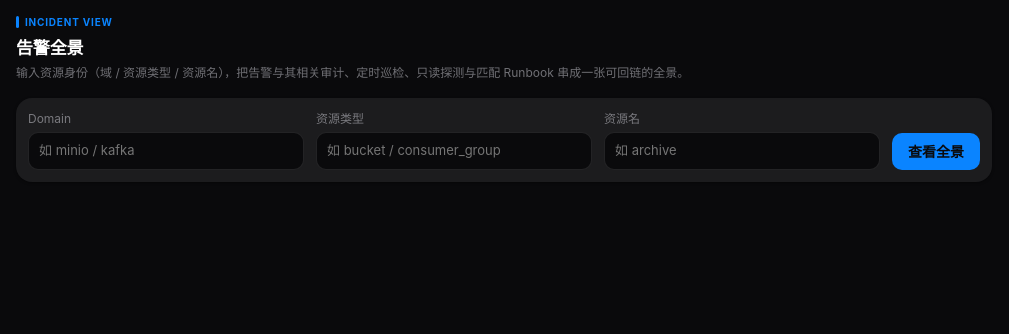
Test case: IncidentView › 无证据资源显示空态
Type "kafka" into the field with test id "incident-domain" at (166, 151), box x1=28 y1=132 x2=304 y2=170
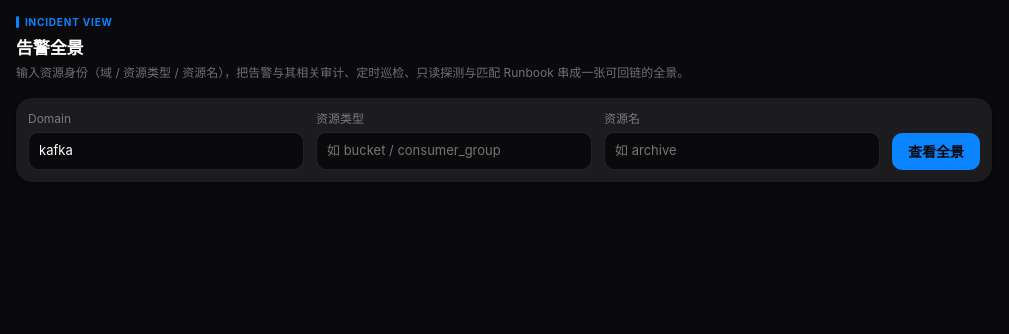
Type "consumer_group" into the field with test id "incident-resource-type" at (454, 151), box x1=316 y1=132 x2=592 y2=170
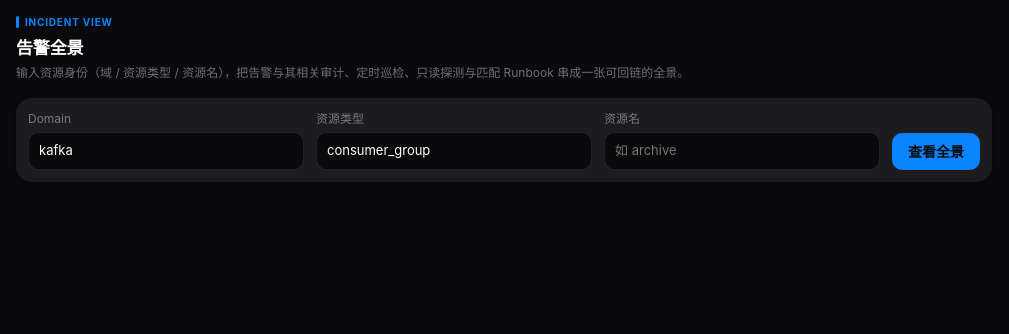
Type "nope" into the field with test id "incident-resource-name" at (742, 151), box x1=604 y1=132 x2=880 y2=170
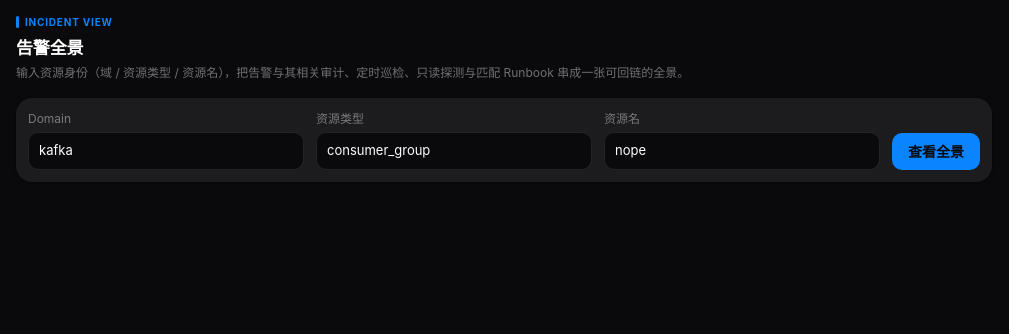
Submit the form from the button with test id "incident-run", box x1=892 y1=132 x2=980 y2=170
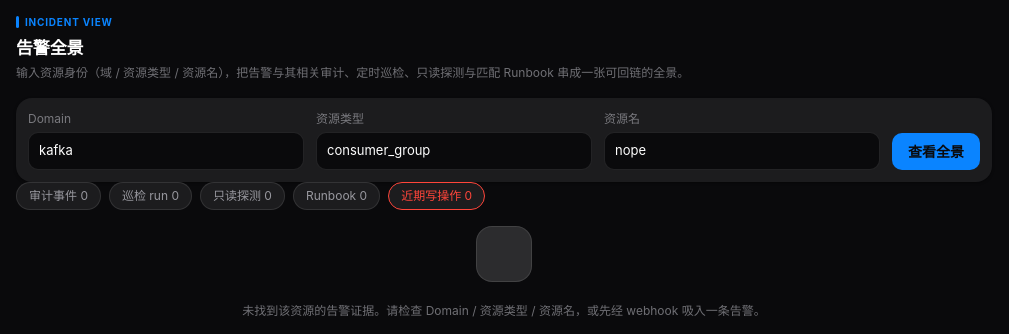
Result: the text with test id "incident-empty" shows "未找到该资源的告警证据" at x1=242 y1=302 x2=766 y2=318
